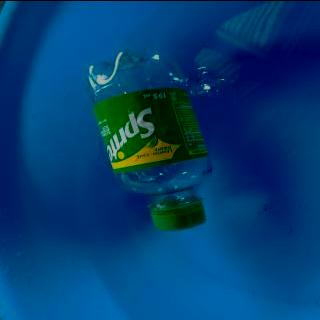bottle: (84, 49, 215, 230)
